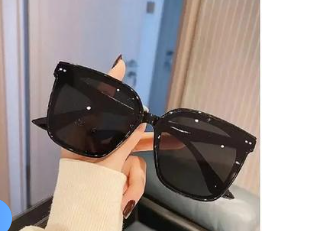glass: (31, 57, 261, 201)
